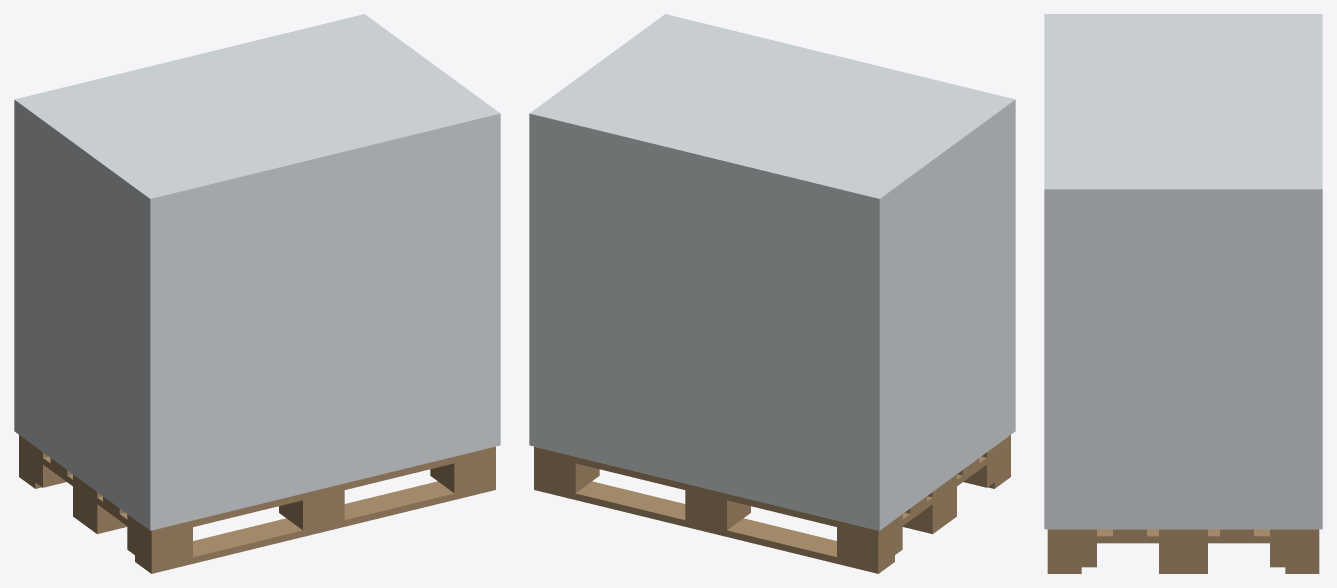
File: SM_CastableBagPallet.fbx
3 views of the same model, side by side, from view 1: azimuth 30°, elevation 25°; view 2: azimuth 150°, elevation 25°; view 3: azimuth 270°, elevation 25° (orthographic). The views are drawn at different scales.
Parts seen in each view (by area): view 1: CB_Wrap, CB_PalletSacks; view 2: CB_Wrap, CB_PalletSacks; view 3: CB_Wrap, CB_PalletSacks.
Boxes of the visible parts, x1,y1,x2,y2 form: CB_Wrap: (14, 14, 500, 530); CB_PalletSacks: (19, 435, 495, 573); CB_Wrap: (529, 14, 1015, 530); CB_PalletSacks: (534, 435, 1010, 573); CB_Wrap: (1044, 14, 1322, 529); CB_PalletSacks: (1047, 529, 1319, 573).
Bounding box in the file's own units: 122 × 125 × 82.
